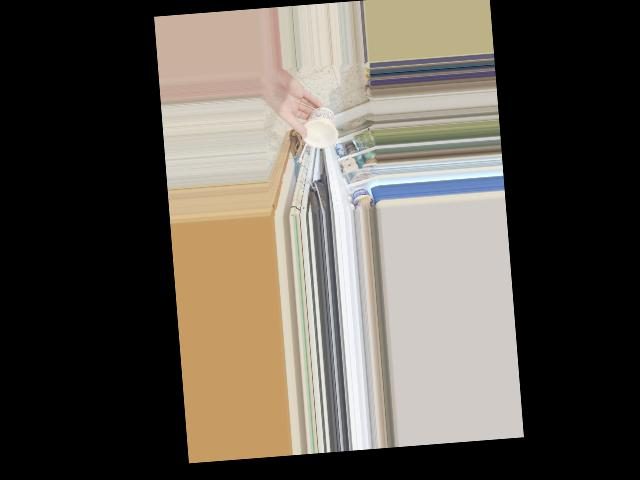cotage: (301, 106, 336, 147)
